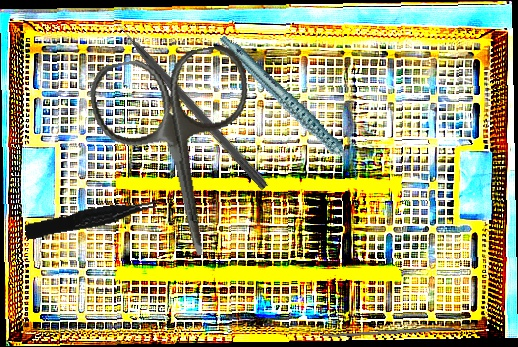Handpiece: (218, 12, 364, 203)
Iris Scissors: (85, 41, 276, 270)
Pusher: (104, 7, 271, 192)
Scalpel Handle: (321, 326, 455, 339)
Tissue Forceps: (23, 198, 160, 240)
